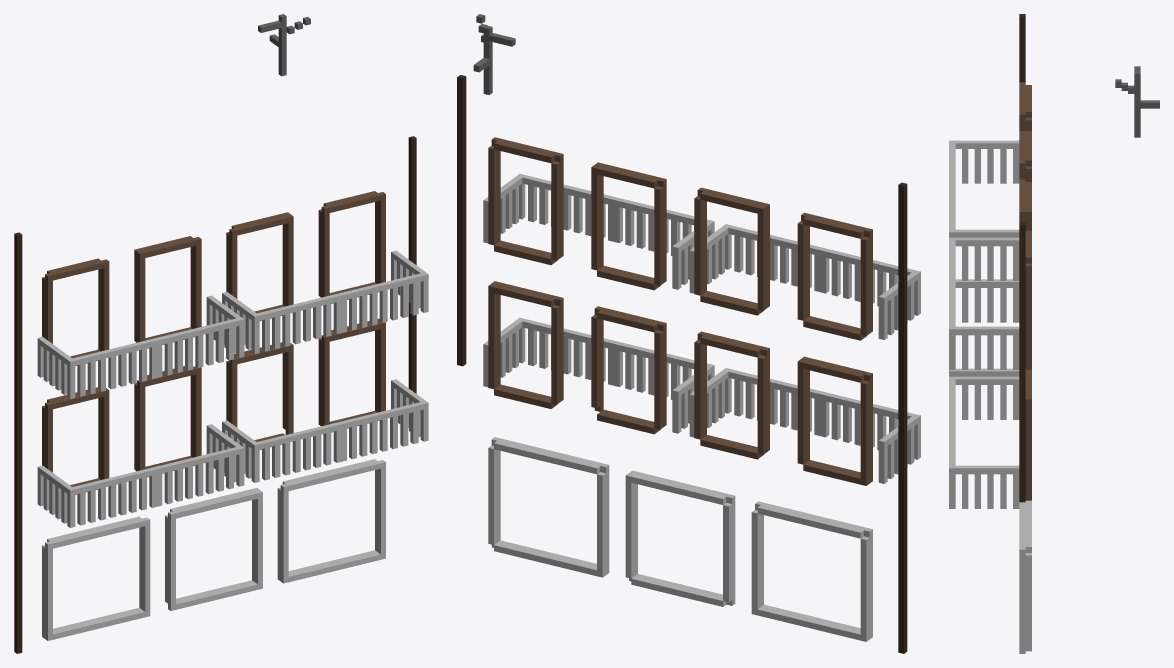
The model's file is Atletics metallo.obj.
The picture shows the model from 3 angles, left to right: view 1: azimuth 30°, elevation 25°; view 2: azimuth 150°, elevation 25°; view 3: azimuth 270°, elevation 25°; orthographic projection. The views are drawn at different scales.
Size of the model in its own units: 7.8 by 9.7 by 3.3.
Materials: 1 (1 with a texture image).
